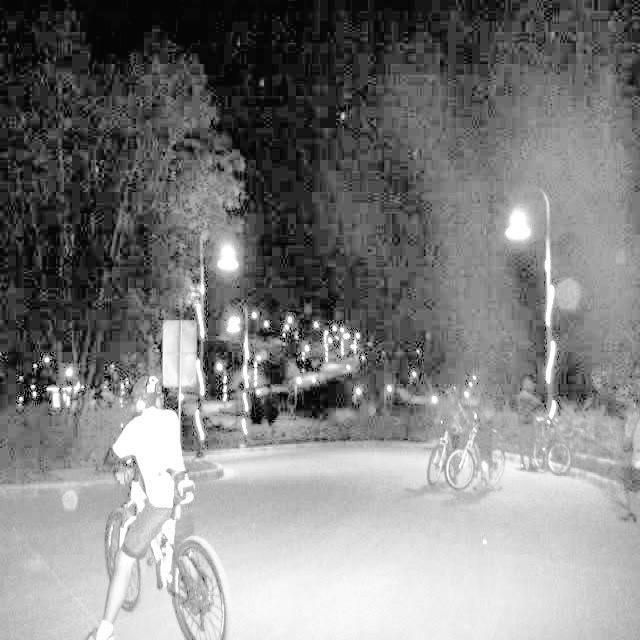Bicycle: (103, 457, 226, 640), (445, 424, 507, 497), (526, 422, 570, 475)
Person: (105, 371, 194, 525)
